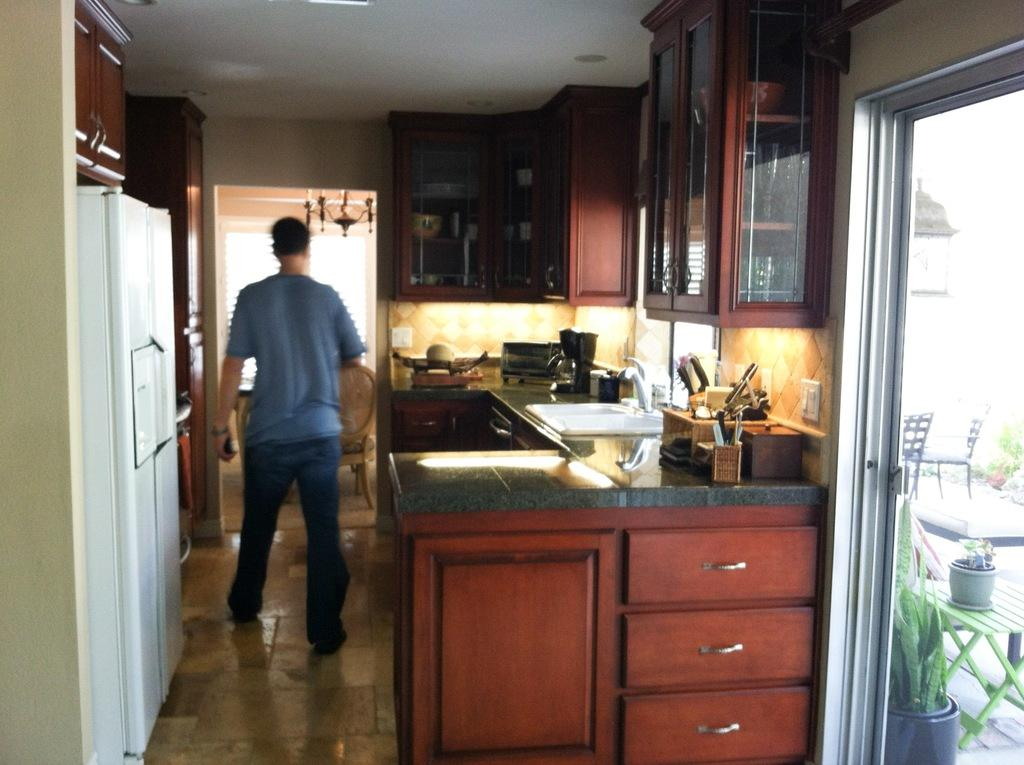cabinet_door: (625, 685, 811, 760), (628, 618, 810, 689), (400, 138, 486, 288), (628, 540, 818, 600), (646, 51, 682, 317), (690, 25, 720, 312), (535, 122, 572, 302), (498, 135, 536, 295), (94, 51, 124, 172), (72, 36, 95, 154)
handle: (698, 632, 744, 660), (700, 557, 755, 575), (696, 718, 742, 738), (80, 104, 98, 147), (94, 121, 110, 156)
